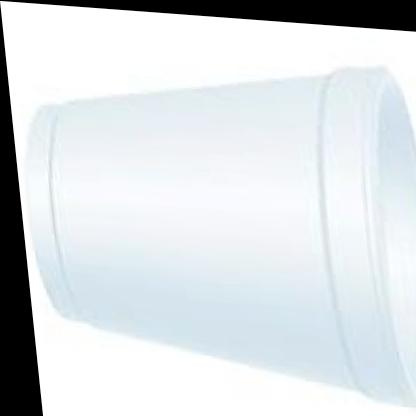Plastic: (1, 7, 416, 416)
